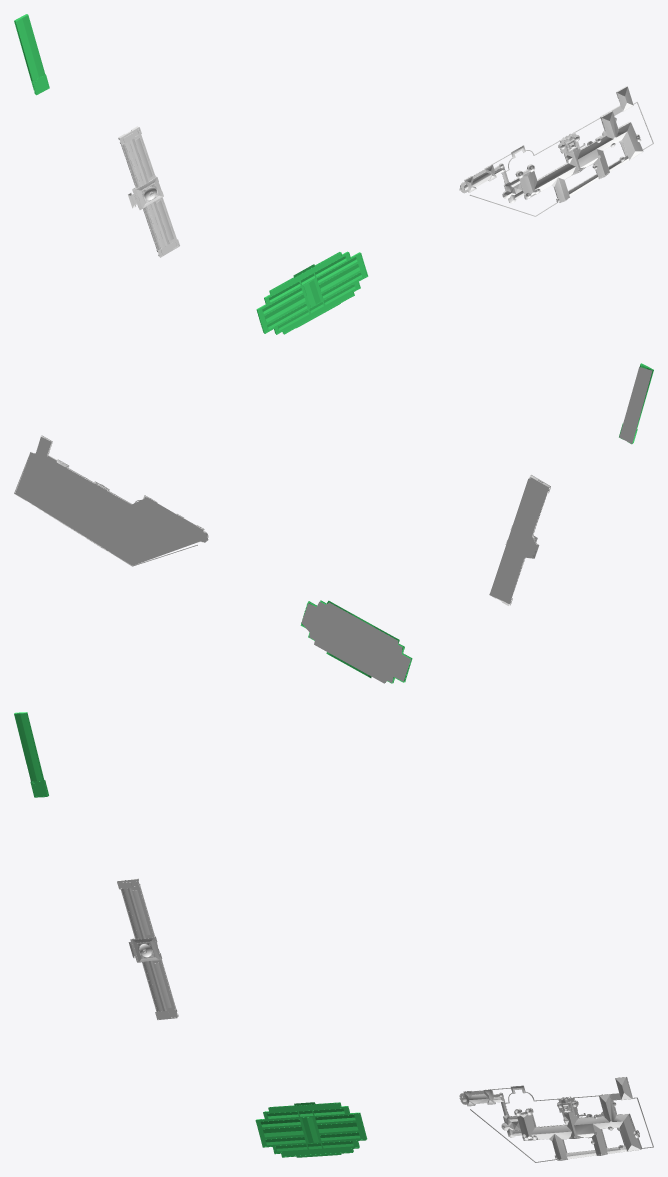
3 views of the same model, one above another, from view 1: azimuth 30°, elevation 25°; view 2: azimuth 150°, elevation 25°; view 3: azimuth 330°, elevation 25° (orthographic).
Size of the model in its own units: 4675 by 2671 by 58.62.
